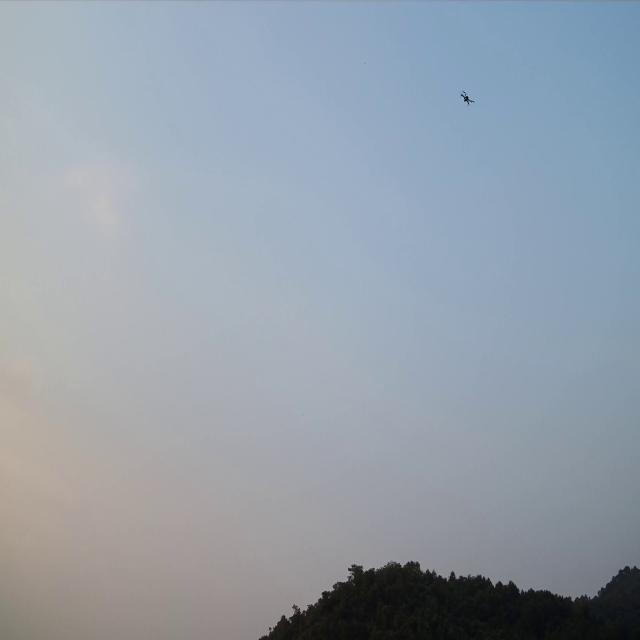UAV: (458, 90, 476, 109)
